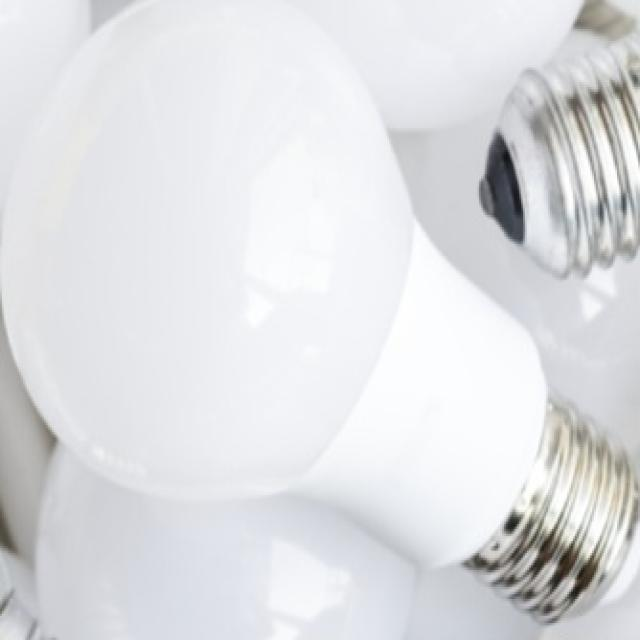bulb: (1, 0, 640, 621)
